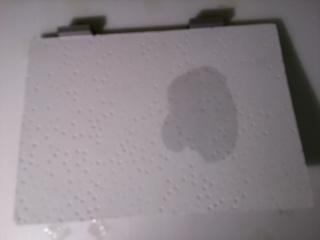Water_detected: (180, 79, 231, 154)
